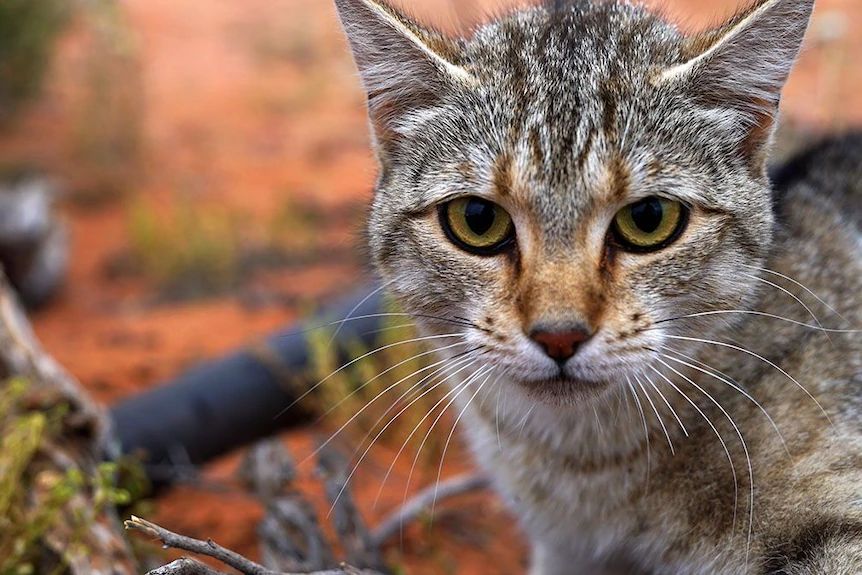Cat: (317, 1, 839, 411)
